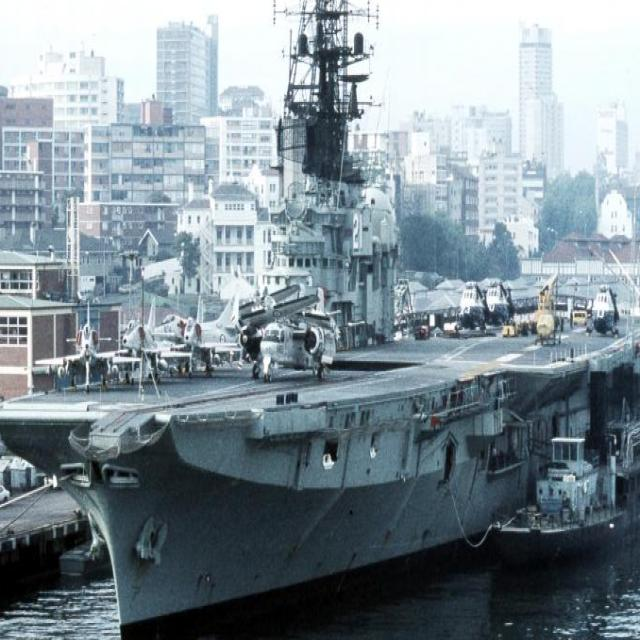Portanaves: (1, 6, 640, 640)
